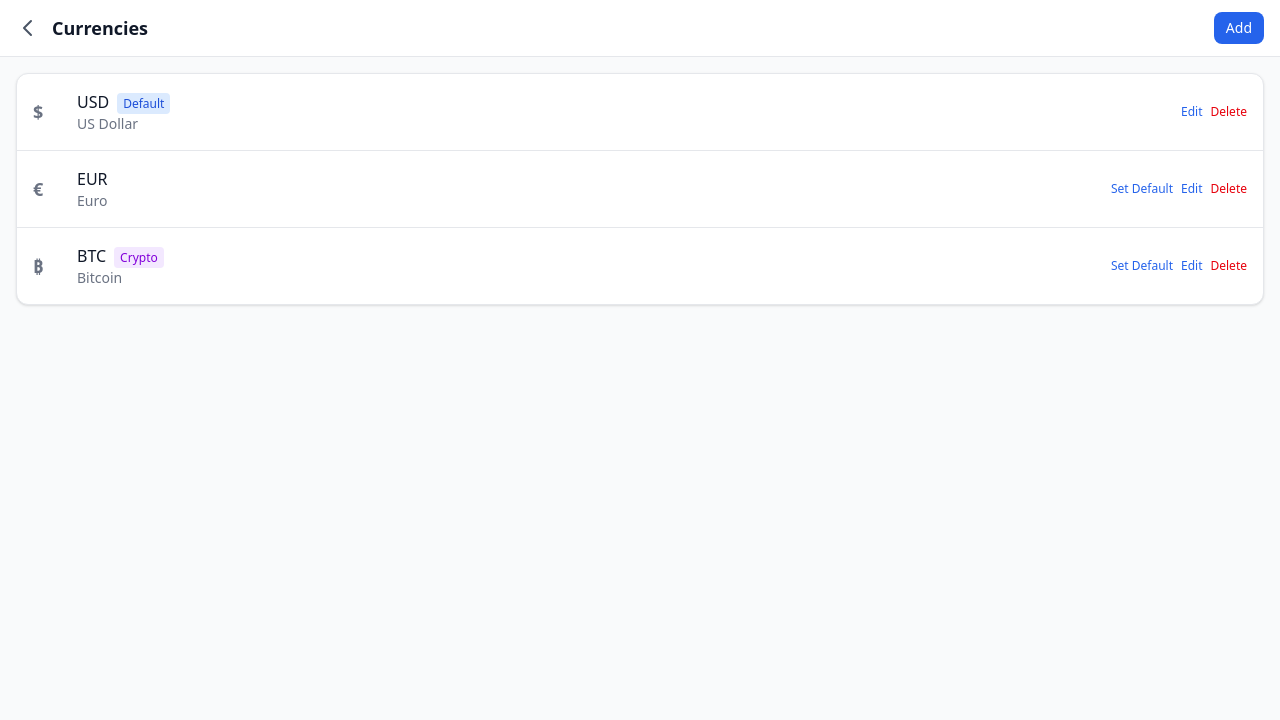
CurrenciesPage › closes modal on Cancel
Click the button "Add" at (1239, 28), box [1214, 12, 1264, 44]
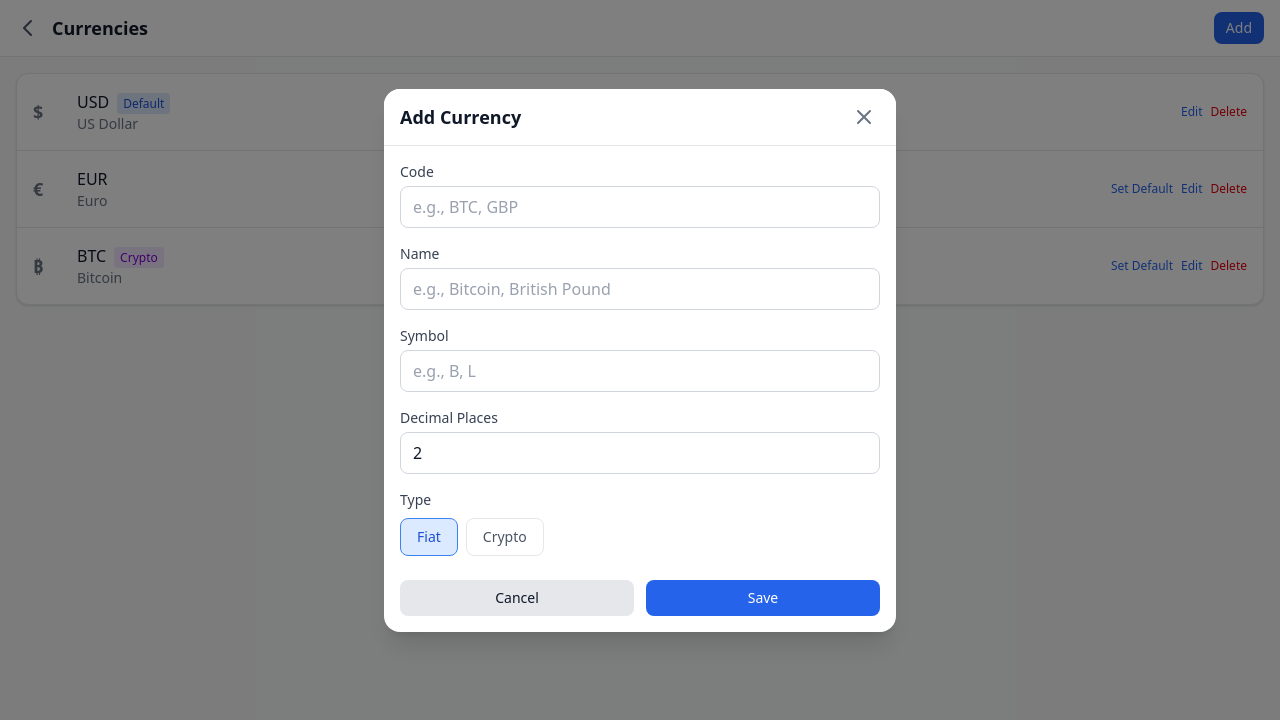
expect the heading "Add Currency" is shown: met, box [400, 102, 521, 130]
Click the button "Cancel" at (517, 598), box [400, 580, 634, 616]
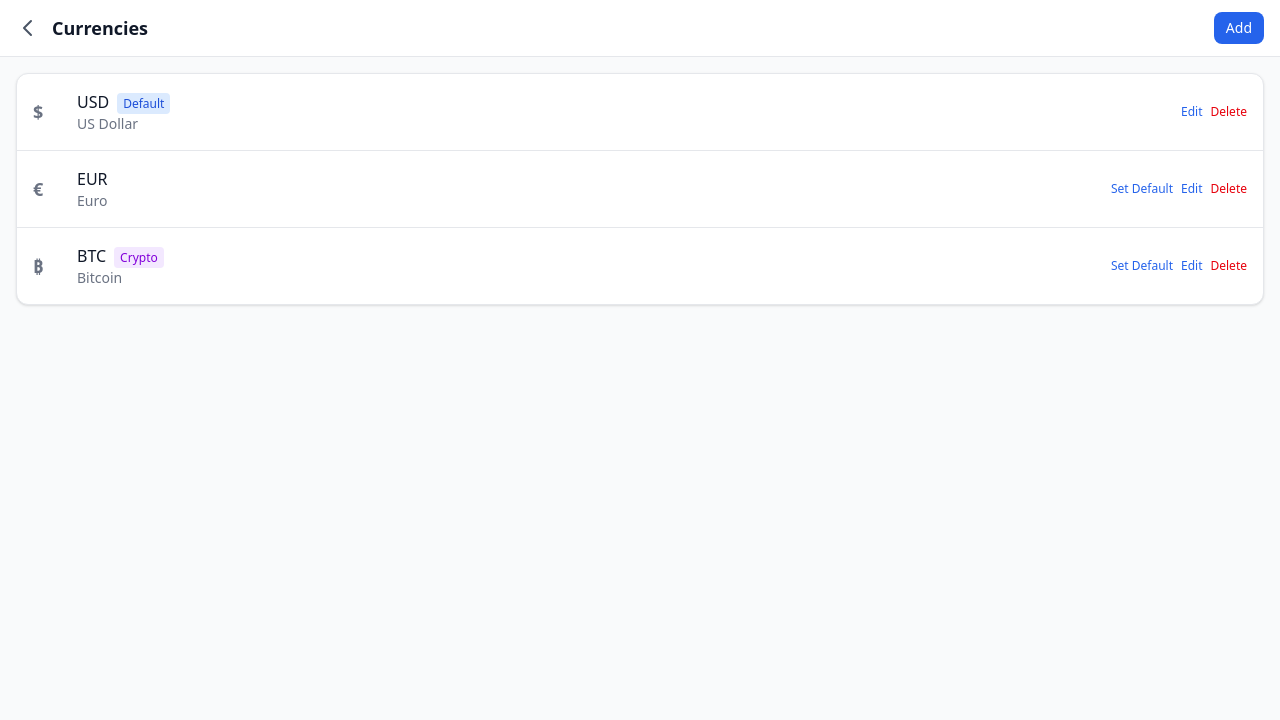
expect the heading "Add Currency" is gone: met
